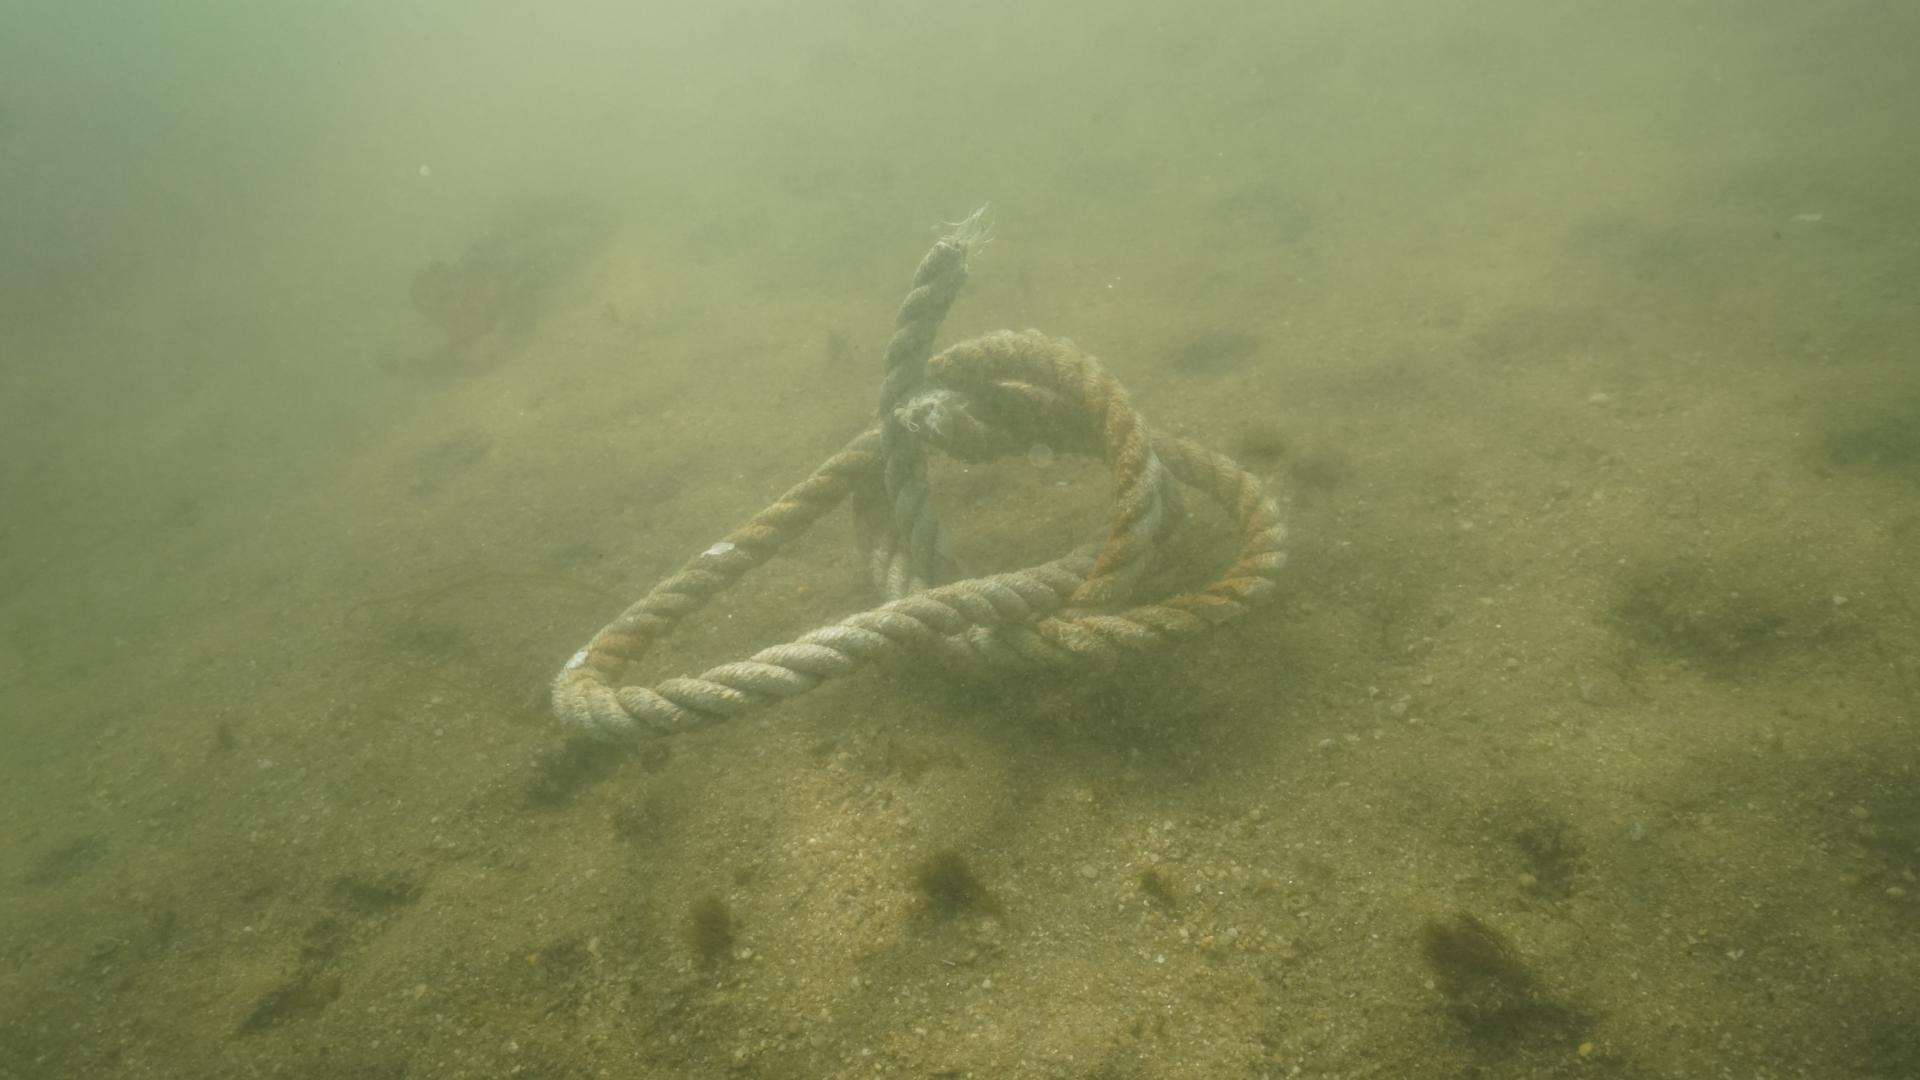bundle of ropes: (545, 266, 1294, 754)
